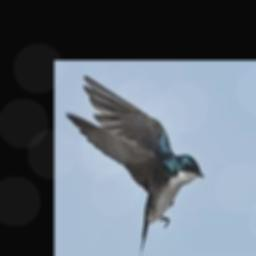Swallow: (66, 74, 203, 255)
